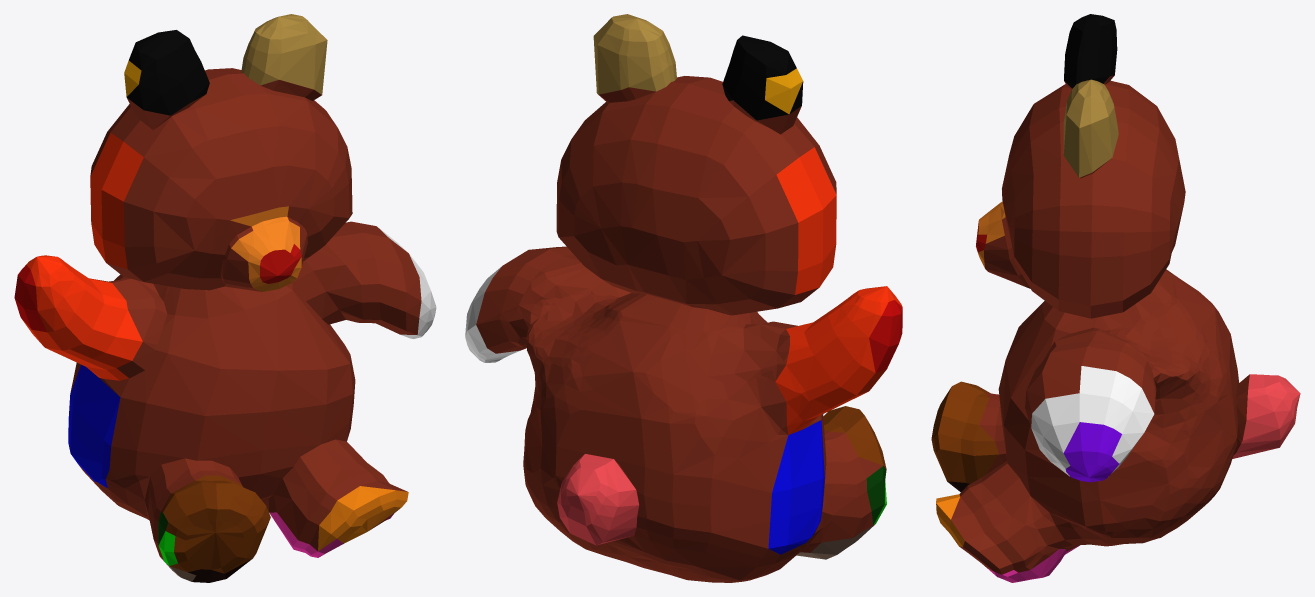
The model's file is articulated_teady_bear.obj.
The picture shows the model from 3 angles, left to right: view 1: azimuth 30°, elevation 25°; view 2: azimuth 150°, elevation 25°; view 3: azimuth 270°, elevation 25°; orthographic projection. The views are drawn at different scales.
Bounding box in the file's own units: 34.15 × 41.79 × 28.1.
